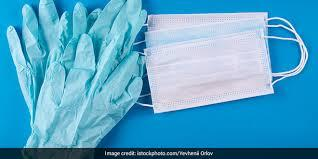Glove: (26, 0, 145, 146), (26, 34, 143, 147)
Mask: (145, 17, 307, 112)
